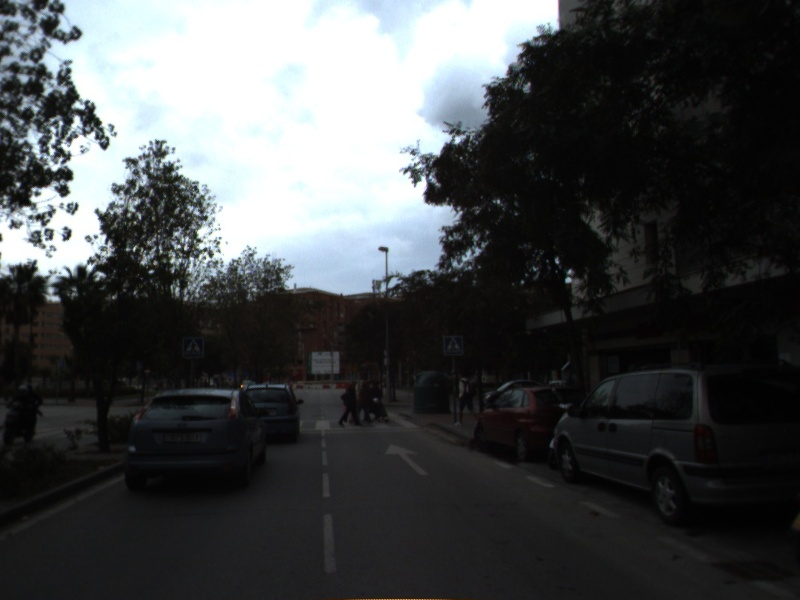STRAIGHT: (383, 442, 431, 477)
